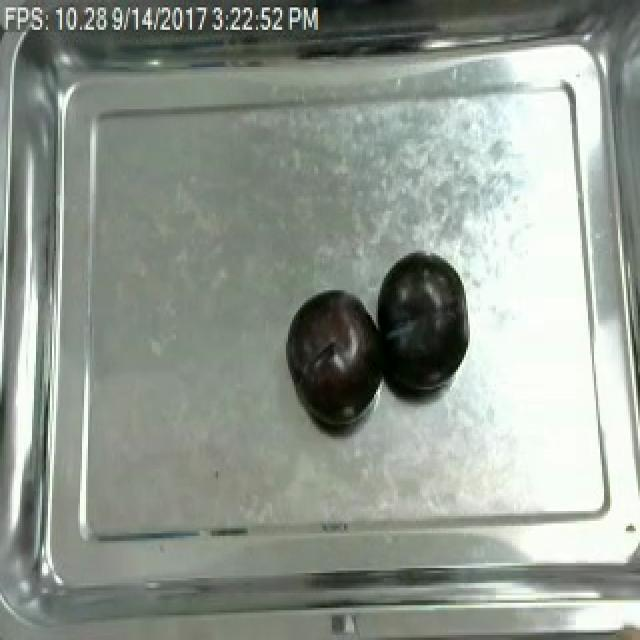Fruit: (370, 246, 472, 400), (282, 285, 384, 427)
